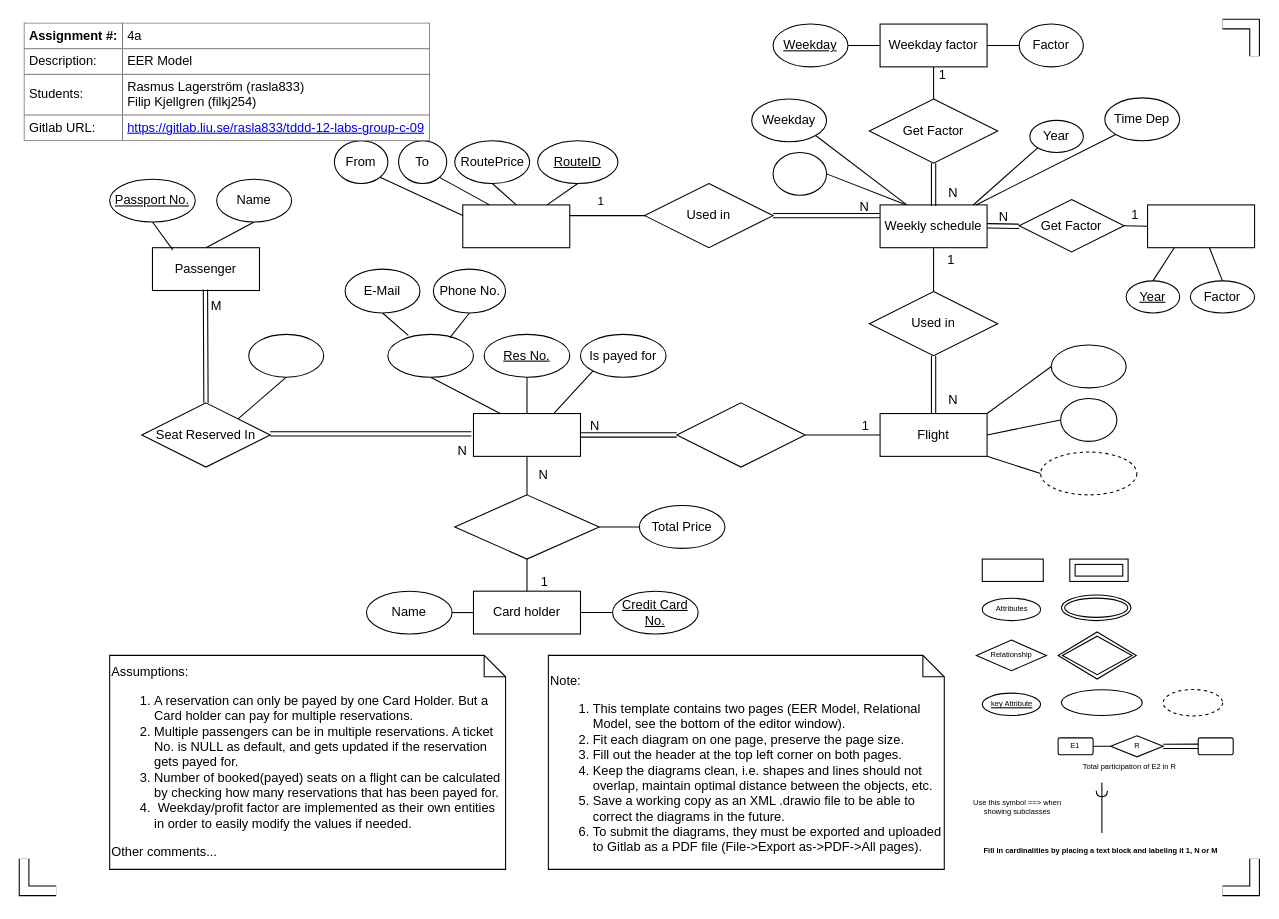
The diagram is 1279 pixels wide and 919 high, and some of its shapes have lost their labels. The centre of each missing label's shape, as x and y in pixels:
Booked seats: (1088,473)
Contact Info: (430,355)
derived attribute: (1192,702)
E2: (1215,746)
Entity: (1012,569)
Flight No.: (1088,366)
For flight: (740,434)
ID: (799,173)
identifying relationship: (1096,655)
multivalued attribute: (1095,607)
part of key attribute: (1101,702)
Payed by: (526,526)
Profit factor: (1201,226)
Reservation: (526,434)
Route: (516,226)
Ticket No.: (286,355)
weak entity: (1098,569)
Week: (1088,419)
